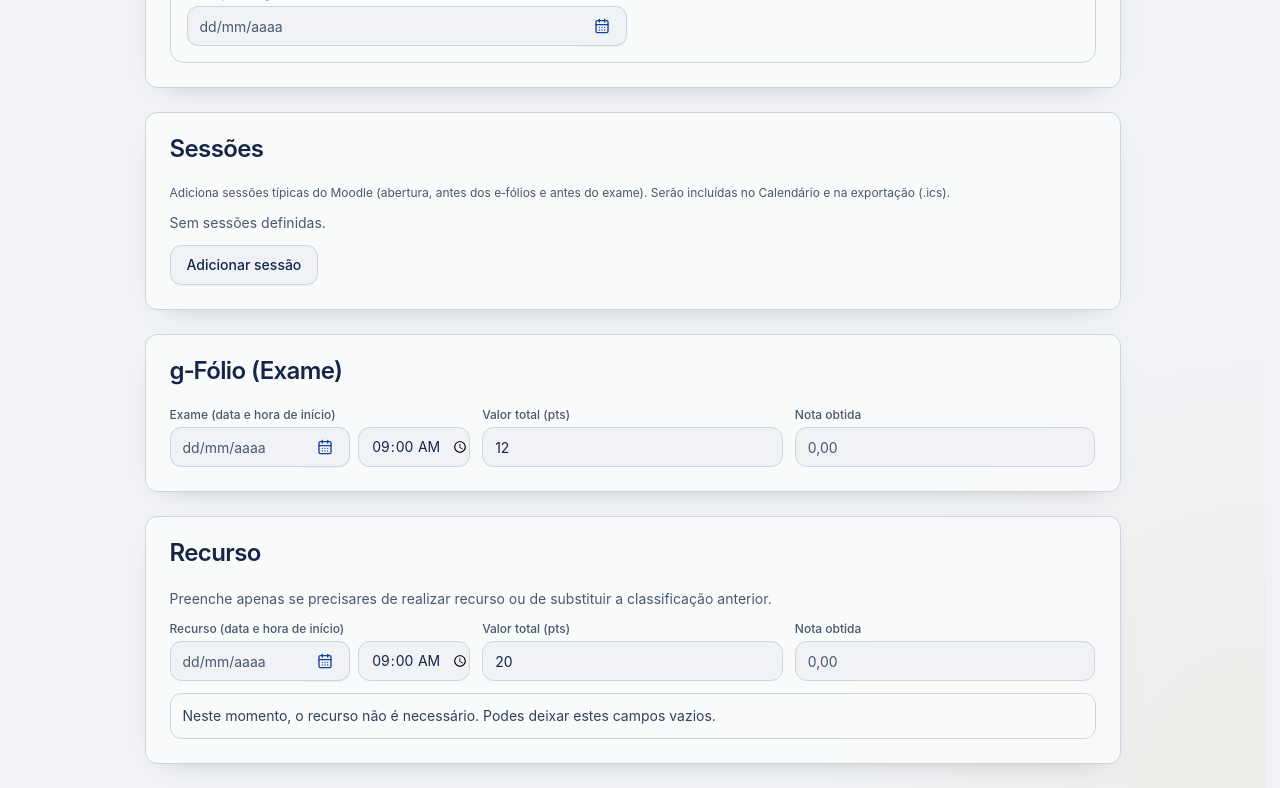
Test case: cartão de resultado no detalhe da cadeira › encaminha para recurso quando o resultado não permite aprovação
The width and height of the screenshot is (1280, 788).
(page scrolled)
Type "5,5" into the 1st field with placeholder "0,00" at (945, 447), box [795,427,1096,467]
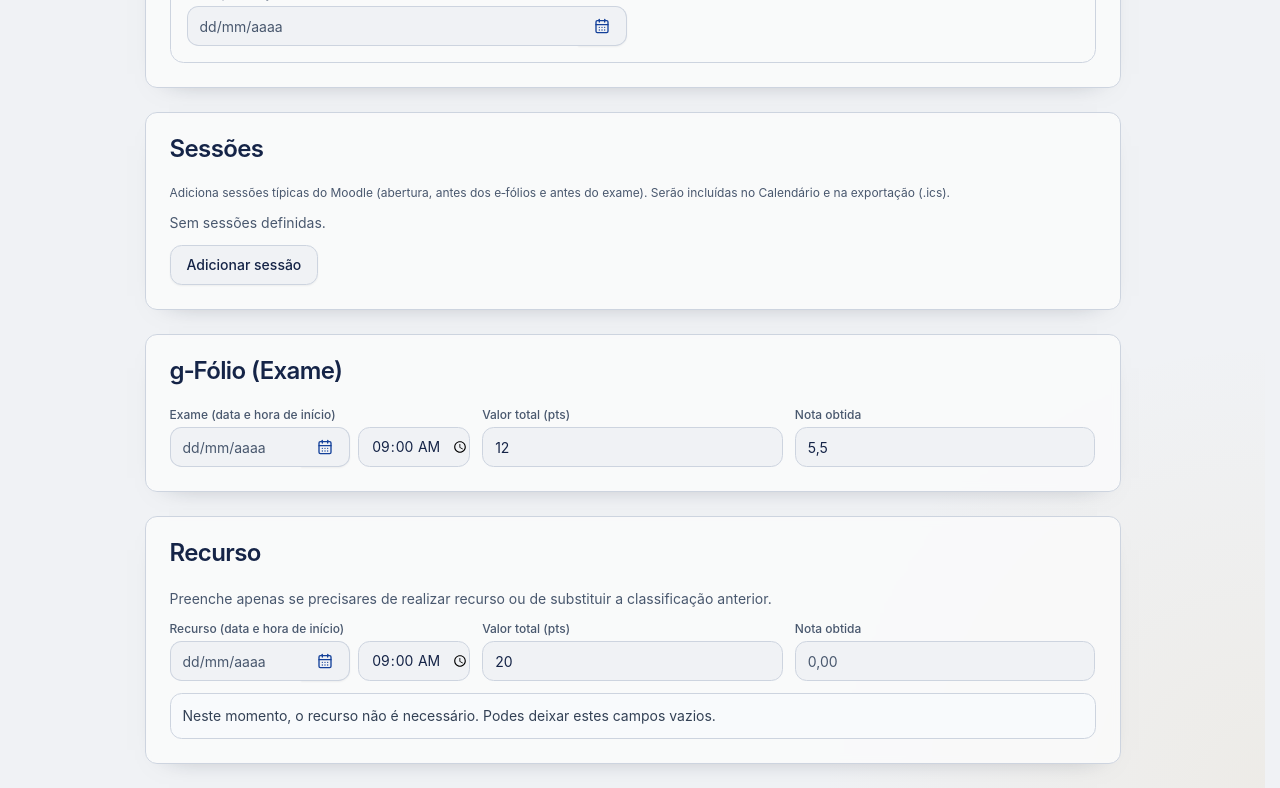
Leave the 2nd field with placeholder "0,00", box [795,427,1096,467]
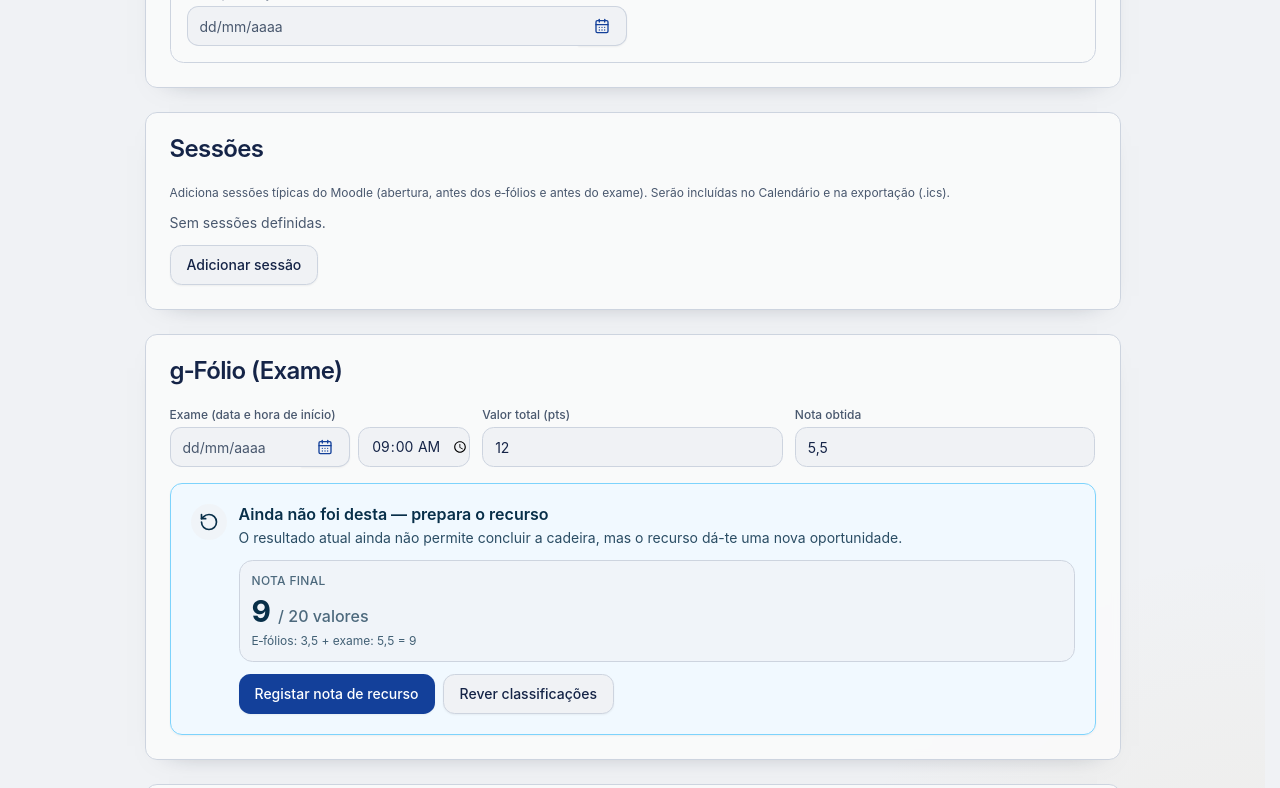
Result: the heading "Ainda não foi desta — prepara o recurso" is shown at [238,504,549,524]
Result: the button "Registar nota de recurso" is shown at [238,674,435,714]
